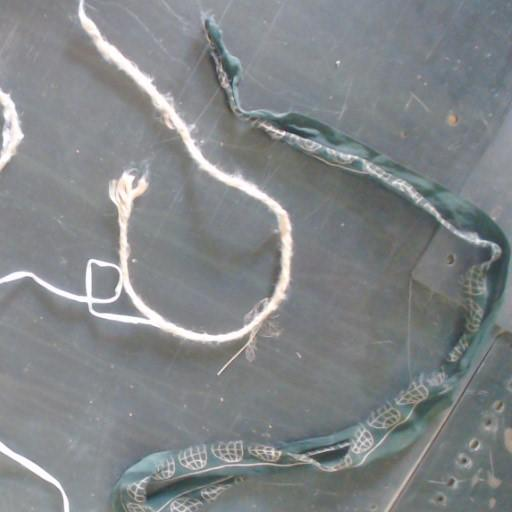cloth: (113, 15, 511, 511)
conveyor belt: (0, 0, 511, 511)
jute: (79, 0, 291, 343), (109, 169, 147, 261)
thread: (0, 260, 158, 326), (0, 442, 69, 511)
